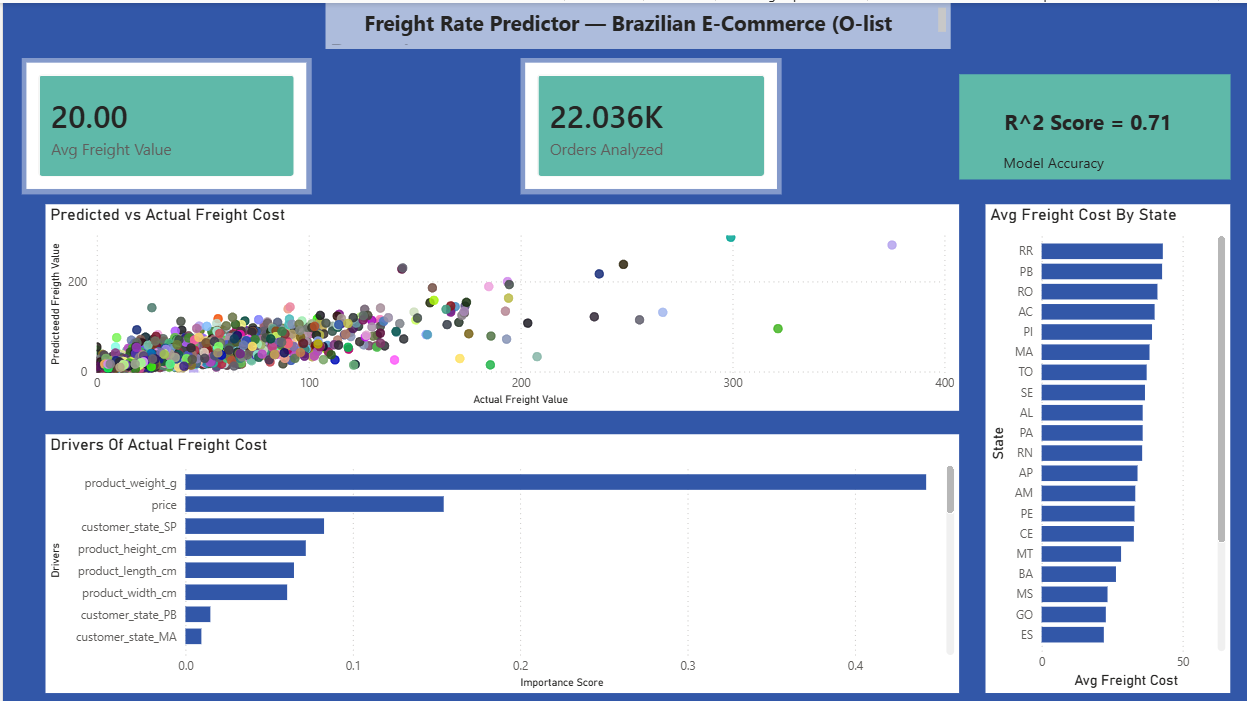

Layout of this report page (visuals, bound fields, positions):
{"tool":"powerbi","page":{"name":"Page 1","canvas":[1280,720],"ordinal":0},"visuals":[{"type":"scatterChart","title":"Predicted vs Actual Freight Cost","fields":{"X":["Sum(freight_predictions.actual_freight)"],"Y":["Sum(freight_predictions.predicted_freight)"],"Series":["freight_predictions.row_id"]},"box":[43.6,206.5,937.7,211.7],"z":0},{"type":"clusteredBarChart","title":"Drivers Of Actual Freight Cost","fields":{"Category":["feature_importance.feature"],"Y":["Sum(feature_importance.importance)"]},"box":[43.6,442.6,937.7,265.5],"z":1},{"type":"clusteredBarChart","title":"Avg Freight Cost By State","fields":{"Category":["Query1.customer_state"],"Y":["Sum(Query1.avg_freight)"]},"box":[1008.3,206.5,251.4,501.6],"z":2},{"type":"textbox","box":[331,0,641.4,47.5],"z":3},{"type":"cardVisual","fields":{"Data":["Avg(freight_predictions.actual_freight)"]},"box":[19.2,56.4,297.6,139.8],"z":4},{"type":"cardVisual","fields":{"Data":["CountNonNull(freight_predictions.actual_freight)"]},"box":[531.1,56.4,268.1,139.8],"z":5},{"type":"textbox","box":[981.4,73.1,278.4,107.8],"z":6}]}

Visuals, with their boxes in screenshot pixels (x1, y1, x2, y2), scaled from the page's 1280x720 canvas onto the 1247x701 screenshot:
"Predicted vs Actual Freight Cost" scatterChart: left=42, top=201, right=956, bottom=407
"Drivers Of Actual Freight Cost" clusteredBarChart: left=42, top=431, right=956, bottom=689
"Avg Freight Cost By State" clusteredBarChart: left=982, top=201, right=1227, bottom=689
textbox: left=322, top=0, right=947, bottom=46
cardVisual - Avg(freight_predictions.actual_freight): left=19, top=55, right=309, bottom=191
cardVisual - CountNonNull(freight_predictions.actual_freight): left=517, top=55, right=779, bottom=191
textbox: left=956, top=71, right=1227, bottom=176
